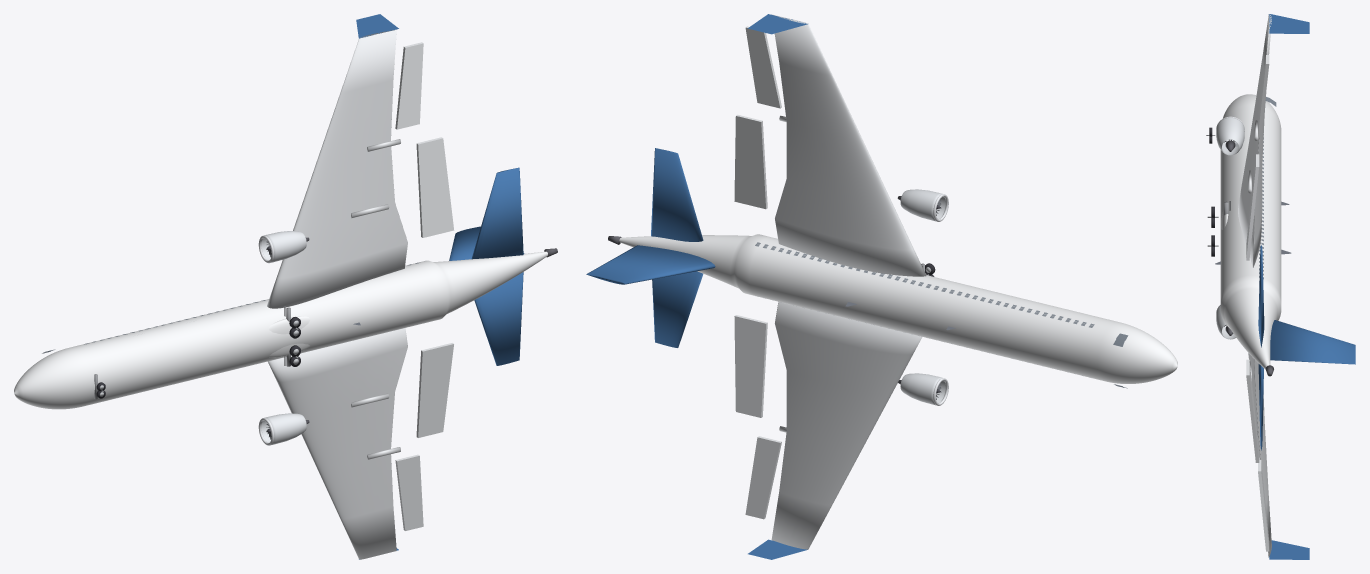
The picture shows the model from 3 angles, left to right: view 1: azimuth 30°, elevation 25°; view 2: azimuth 150°, elevation 25°; view 3: azimuth 270°, elevation 25°; orthographic projection.
Visible parts, largest first — view 1: Fuselage, Wing_R, Wing_L, HStab_R, HStab_L, Flap_R, Flap_L, Aileron_R, Aileron_L, Nacelle_-1_0, Nacelle_1_0, Fin; view 2: Fuselage, Wing_L, Wing_R, HStab_R, Flap_L, Fin, Flap_R, HStab_L, Aileron_L, Aileron_R, Nacelle_-1_0, Nacelle_1_0 (+1 smaller); view 3: Fuselage, Fin, Wing_R, Wing_L, Nacelle_1_0, Sharklet_R, Sharklet_L, Flap_R, Flap_L, HStab_R, Aileron_L, Aileron_R (+2 smaller).
Part boxes in pixels (left/top/right/bottom): Fuselage: left=14, top=251, right=547, bottom=409; Wing_R: left=267, top=29, right=407, bottom=308; Wing_L: left=268, top=328, right=407, bottom=559; HStab_R: left=471, top=167, right=523, bottom=259; HStab_L: left=474, top=272, right=523, bottom=365; Flap_R: left=416, top=137, right=454, bottom=237; Flap_L: left=416, top=343, right=453, bottom=437; Aileron_R: left=395, top=42, right=423, bottom=129; Aileron_L: left=395, top=454, right=423, bottom=530; Nacelle_-1_0: left=261, top=413, right=306, bottom=444; Nacelle_1_0: left=261, top=231, right=306, bottom=262; Fin: left=449, top=226, right=524, bottom=260; Fuselage: left=619, top=234, right=1177, bottom=383; Wing_L: left=771, top=301, right=922, bottom=549; Wing_R: left=772, top=14, right=926, bottom=276; HStab_R: left=651, top=148, right=703, bottom=241; Flap_L: left=734, top=315, right=767, bottom=417; Fin: left=586, top=245, right=715, bottom=284; Flap_R: left=734, top=114, right=767, bottom=209; HStab_L: left=652, top=271, right=703, bottom=347; Aileron_L: left=745, top=436, right=781, bottom=519; Aileron_R: left=745, top=26, right=781, bottom=108; Nacelle_-1_0: left=900, top=373, right=945, bottom=405; Nacelle_1_0: left=900, top=189, right=945, bottom=221; Fuselage: left=1220, top=94, right=1281, bottom=369; Fin: left=1270, top=320, right=1355, bottom=364; Wing_R: left=1238, top=14, right=1271, bottom=267; Wing_L: left=1248, top=353, right=1271, bottom=557; Nacelle_1_0: left=1216, top=117, right=1244, bottom=155; Sharklet_R: left=1268, top=14, right=1309, bottom=33; Sharklet_L: left=1269, top=540, right=1309, bottom=559; Flap_R: left=1246, top=154, right=1259, bottom=260; Flap_L: left=1246, top=359, right=1259, bottom=462; HStab_R: left=1258, top=245, right=1264, bottom=347; Aileron_L: left=1258, top=460, right=1269, bottom=551; Aileron_R: left=1258, top=55, right=1269, bottom=136.
Size of the model in its own units: 39.75 by 35.79 by 9.23.
